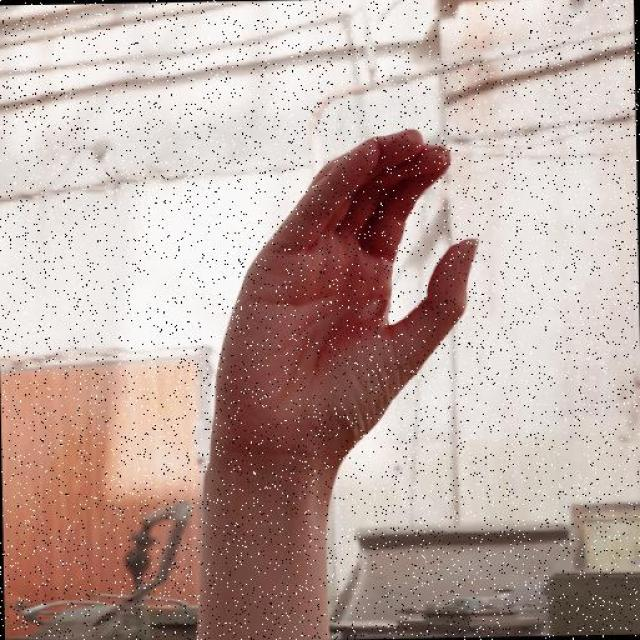C: (205, 124, 488, 478)
